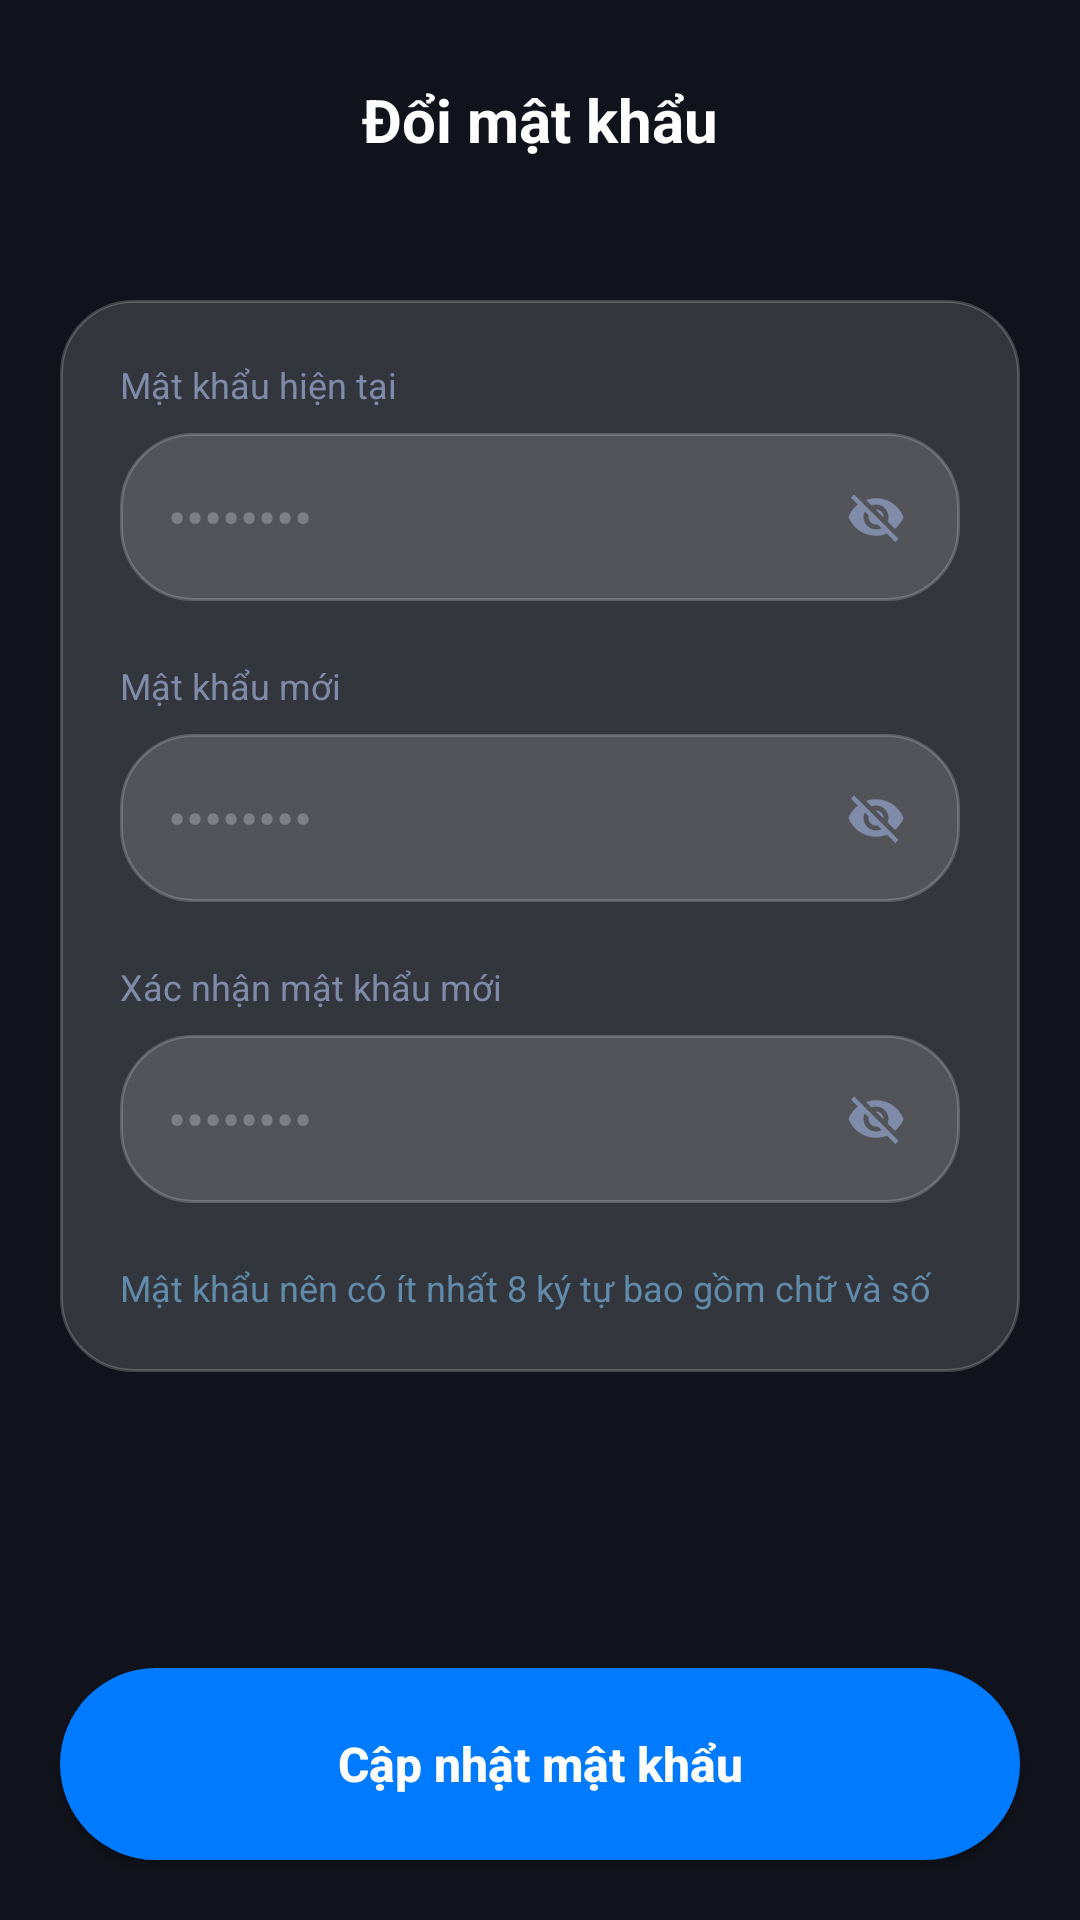

Named icons in this screenshot (1080 × 1920) and their bounding boxes, BBox(x1, y1, x2, y2):
visibility off: BBox(849, 495, 903, 542), BBox(849, 796, 903, 843), BBox(849, 1097, 903, 1144)
